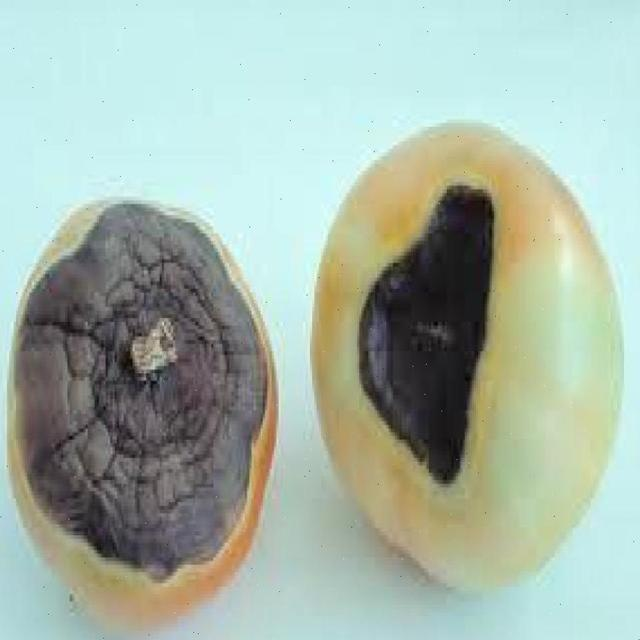Blossom End Rot Fruit: (93, 209, 282, 260)
